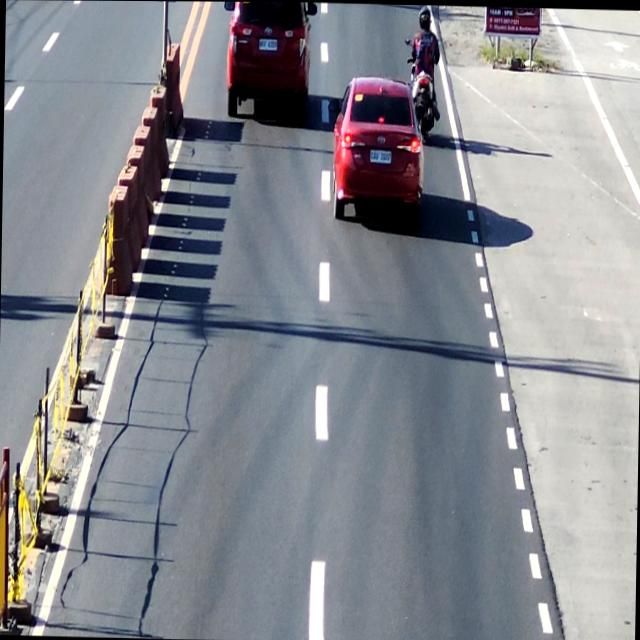Car: (334, 73, 422, 217), (227, 1, 308, 120)
License-Plate: (368, 140, 392, 166), (258, 34, 278, 56)
Motorcycle: (410, 6, 442, 137)
